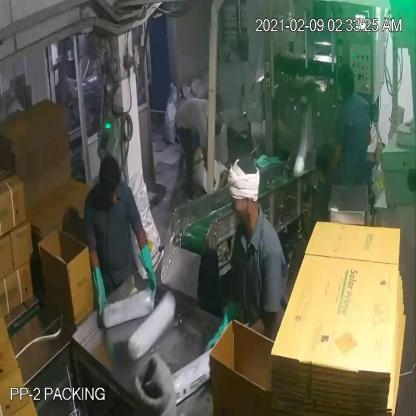glove: (131, 240, 164, 312), (86, 255, 115, 327)
